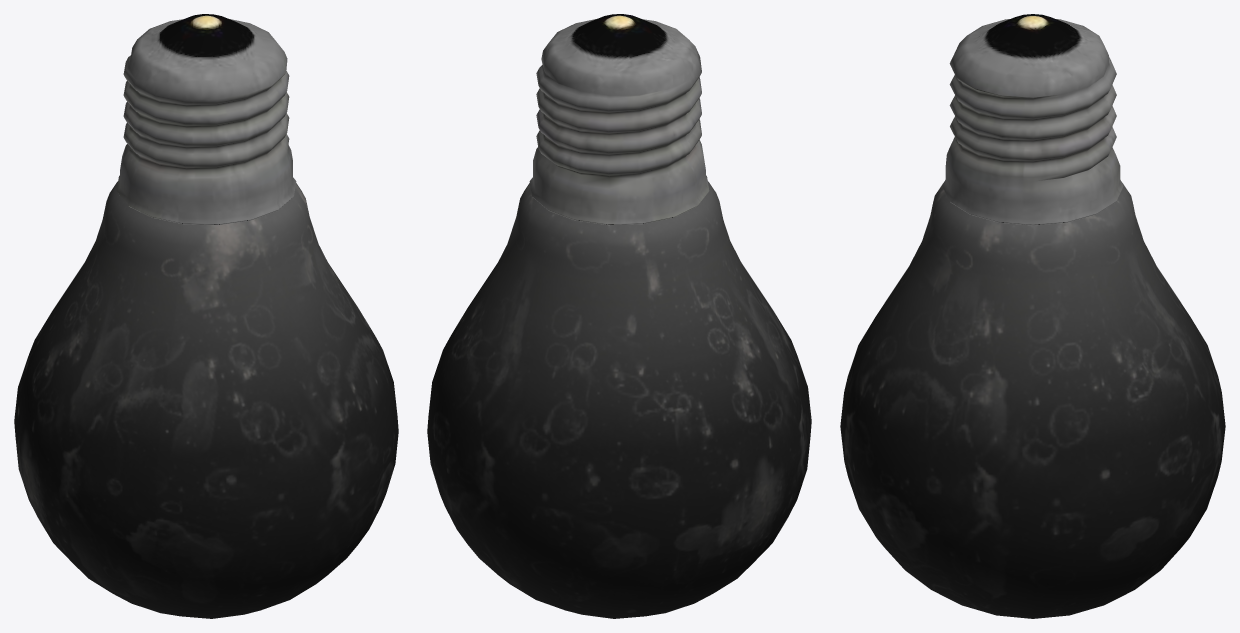
File: lightbulb_pendant.gltf
3 renders of one model, left to right at view 1: azimuth 30°, elevation 25°; view 2: azimuth 150°, elevation 25°; view 3: azimuth 270°, elevation 25°, orthographic.
Parts seen in each view (by area): view 1: lightbulb_01; view 2: lightbulb_01; view 3: lightbulb_01.
Part boxes in pixels (x1=…): lightbulb_01: x1=14, y1=14, x2=398, y2=618; lightbulb_01: x1=427, y1=14, x2=811, y2=618; lightbulb_01: x1=840, y1=14, x2=1225, y2=618.
Size of the model in its own units: 0.06 by 0.1003 by 0.06.
2 materials, 2 textured.
